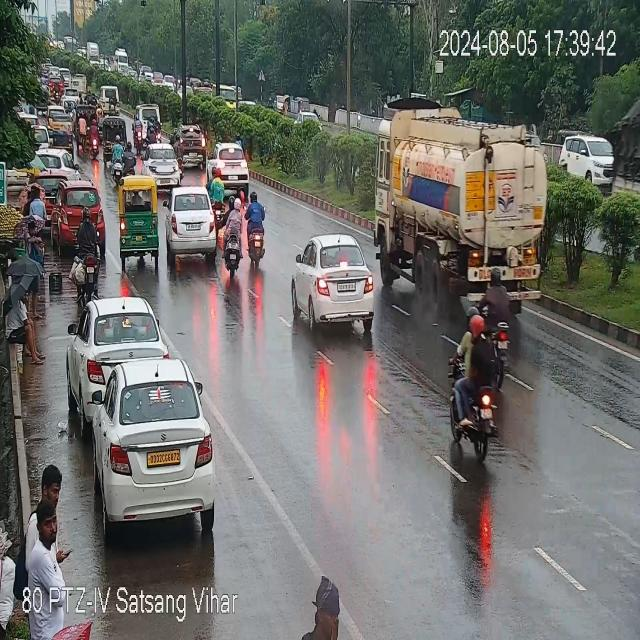2-wheelers: (451, 297, 506, 456), (466, 278, 520, 356), (220, 192, 247, 272), (76, 206, 99, 294), (245, 190, 272, 264), (110, 132, 137, 178), (78, 112, 98, 158)
auto: (116, 175, 166, 261), (104, 111, 127, 159), (51, 113, 73, 153), (298, 96, 310, 109)
car: (76, 360, 220, 534), (70, 297, 172, 407), (290, 233, 382, 322), (170, 185, 224, 259), (52, 180, 107, 250), (16, 146, 88, 199), (556, 132, 620, 190), (206, 144, 256, 186), (137, 143, 183, 185), (132, 105, 167, 146), (178, 128, 212, 169), (99, 84, 123, 115)
pedestrian: (31, 460, 71, 560), (7, 266, 47, 366), (8, 233, 50, 324), (313, 575, 354, 640), (0, 529, 17, 614), (26, 185, 52, 240)
truck: (376, 113, 554, 305)
